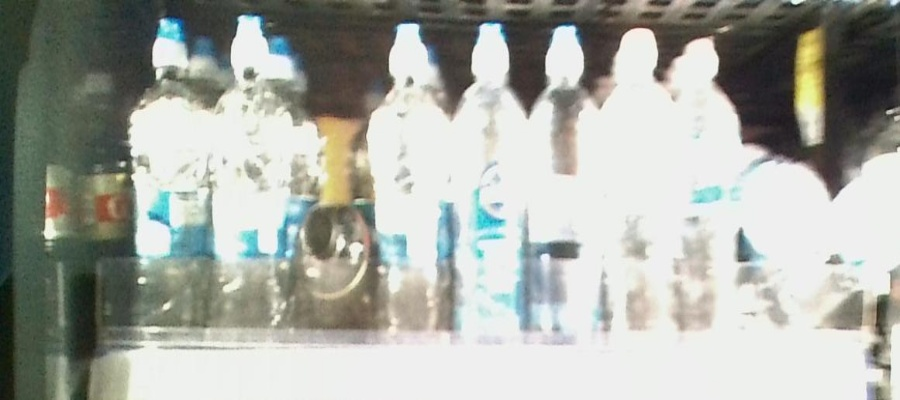bottle: (121, 15, 205, 351), (370, 18, 450, 340), (210, 15, 286, 353), (453, 23, 526, 350), (607, 24, 676, 344), (531, 20, 598, 348), (680, 39, 747, 342), (291, 194, 364, 322)
